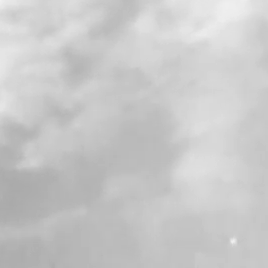Target: (230, 238, 236, 243)
